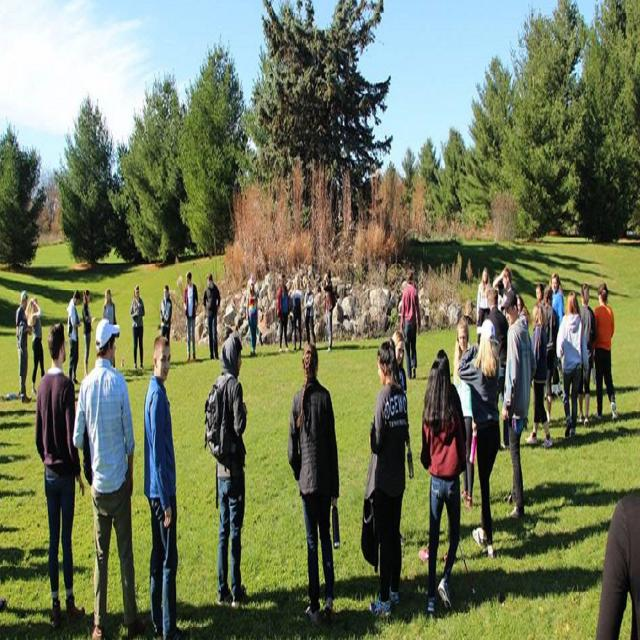body: (72, 317, 141, 639), (34, 319, 85, 624), (286, 341, 340, 619), (418, 347, 467, 618), (143, 333, 185, 639), (203, 332, 249, 611), (368, 335, 408, 618), (456, 318, 501, 555), (500, 288, 536, 521), (593, 479, 639, 640), (390, 329, 414, 546), (452, 314, 478, 512), (556, 288, 588, 442), (524, 304, 554, 449), (592, 279, 620, 423), (578, 283, 596, 427), (400, 268, 421, 381), (483, 288, 510, 370), (542, 286, 558, 424), (24, 297, 45, 396), (15, 288, 33, 402), (550, 270, 564, 399), (203, 270, 221, 361), (532, 280, 546, 394), (66, 284, 81, 385), (80, 286, 95, 378), (129, 284, 145, 370), (184, 267, 198, 365), (322, 266, 336, 352), (476, 266, 491, 346), (276, 272, 290, 354), (291, 273, 305, 352), (159, 283, 172, 363), (246, 271, 258, 356), (304, 278, 316, 349), (501, 266, 517, 311), (102, 287, 118, 325), (516, 294, 530, 332), (497, 278, 507, 318), (222, 324, 233, 340)
